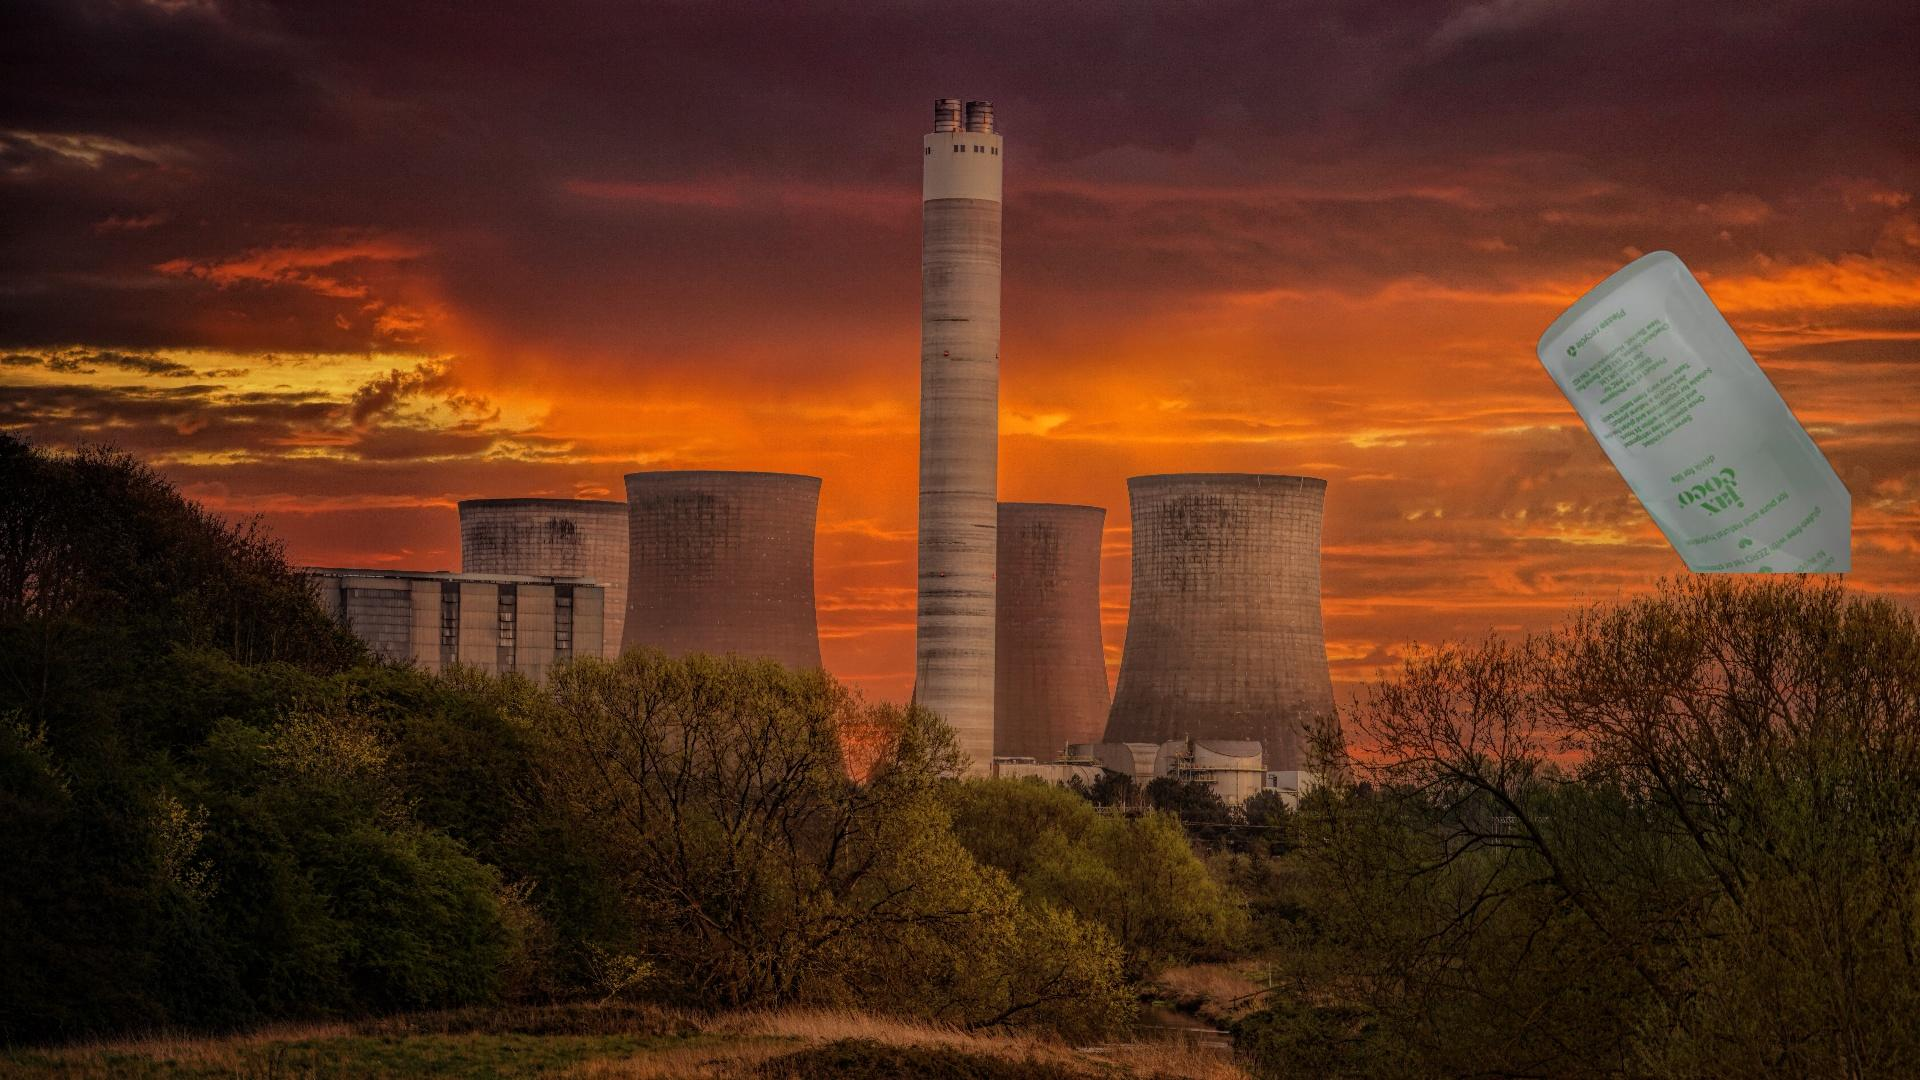glass: (1532, 249, 1851, 574)
